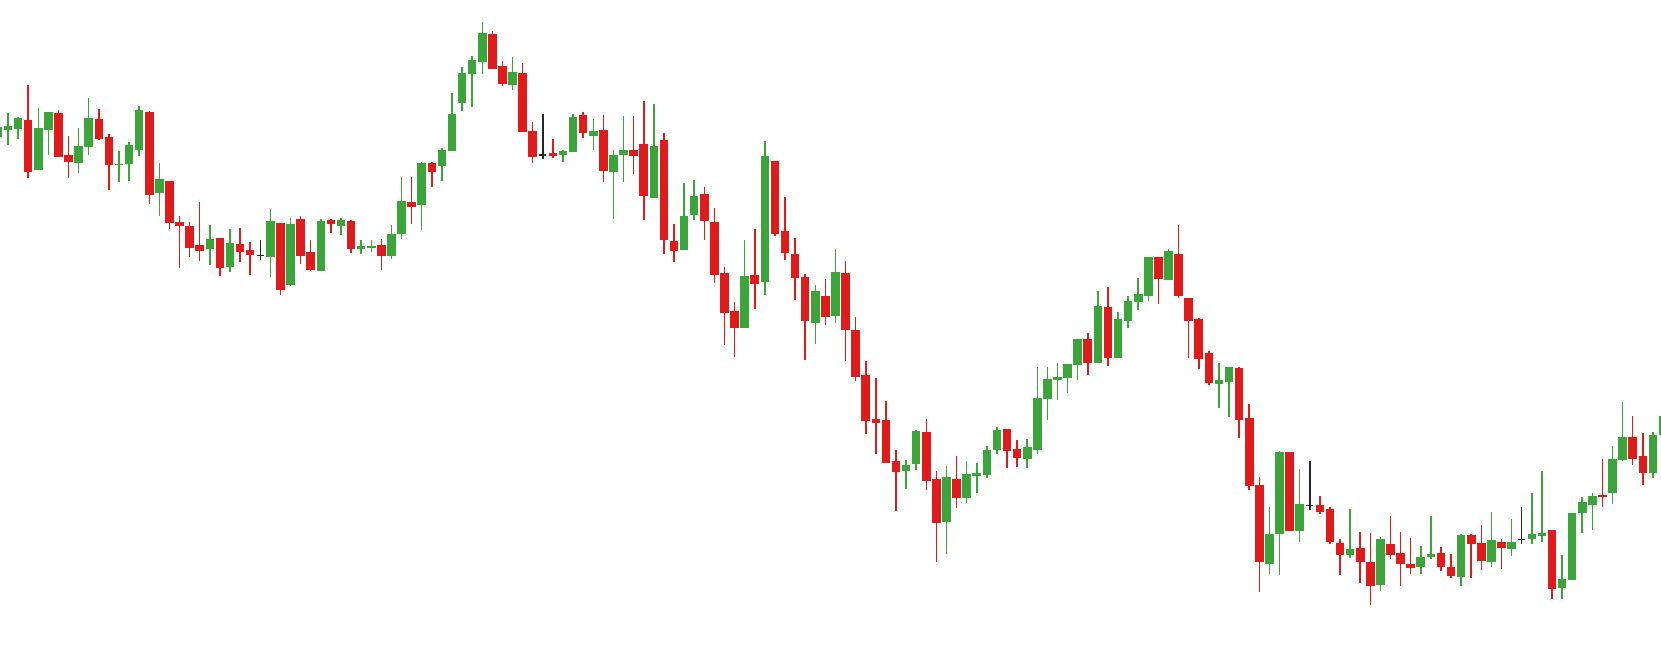buy: (1454, 492, 1578, 601)
sell: (677, 134, 781, 266)
